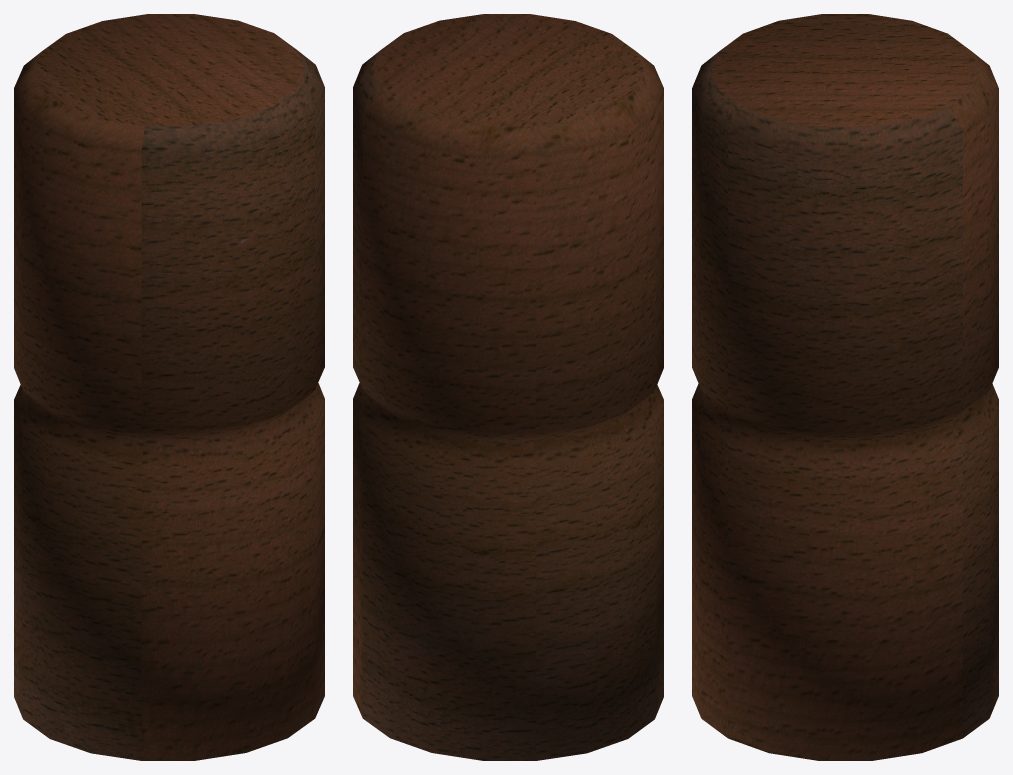
File: Koma_C_L_C2.fbx
3 views of the same model, side by side, from view 1: azimuth 30°, elevation 25°; view 2: azimuth 150°, elevation 25°; view 3: azimuth 270°, elevation 25° (orthographic).
Parts seen in each view (by area): view 1: Koma_C_L_C2; view 2: Koma_C_L_C2; view 3: Koma_C_L_C2.
Part boxes in pixels (x1,y1,x2,y2): Koma_C_L_C2: (14, 14, 324, 760); Koma_C_L_C2: (353, 14, 663, 760); Koma_C_L_C2: (692, 14, 998, 760).
Size of the model in its own units: 1.6 by 3.6 by 1.6.
1 material, 1 textured.
